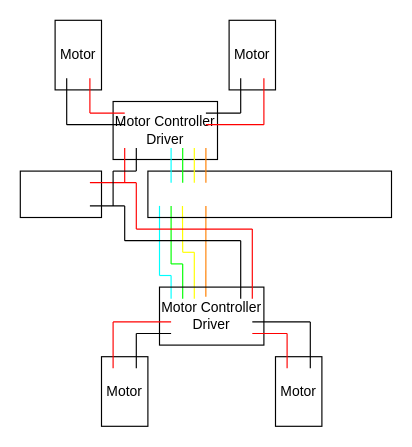
Image size: 412x447. Some labels were removed from this diagram. Each missing label, with the box of its shape:
12V DC Battery: (19, 170, 102, 217)
Raspberry Pi 4: (147, 170, 392, 217)
